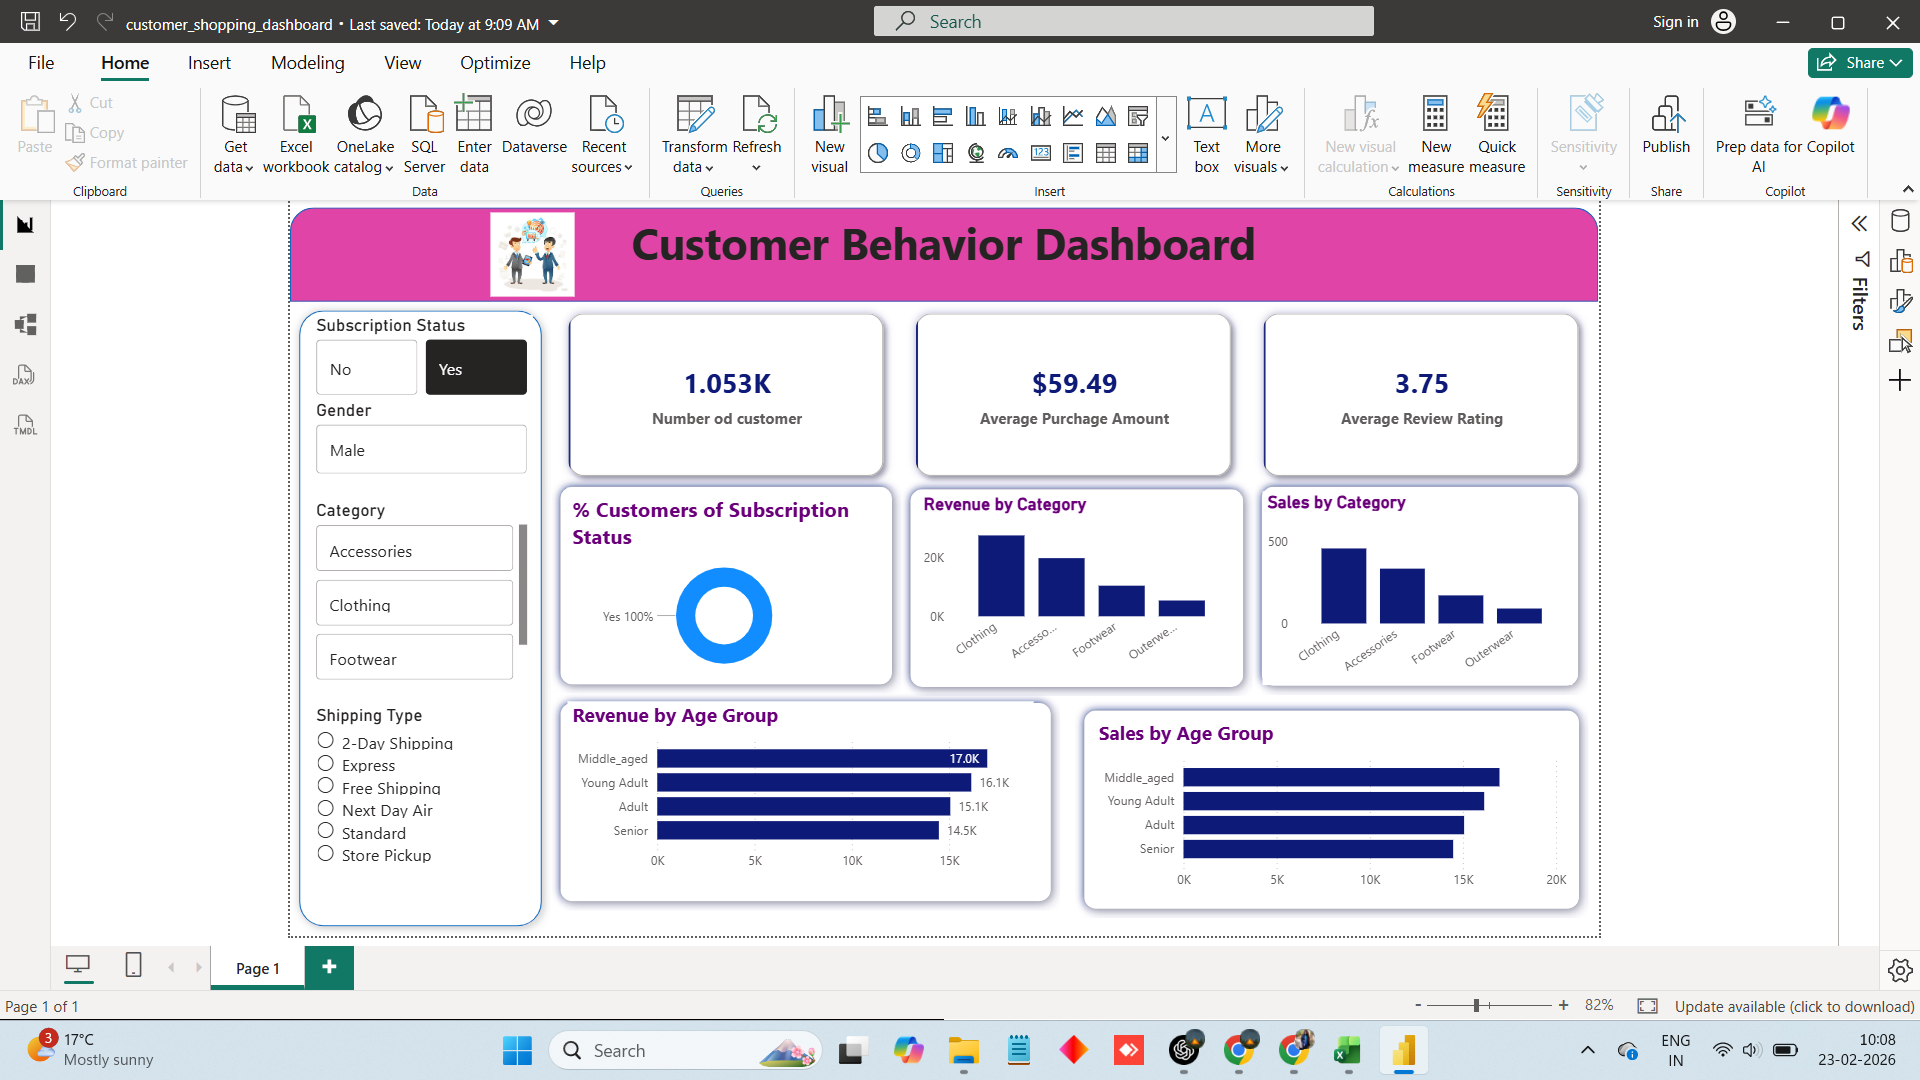

What the dashboard file says about the page in this screenshot:
{"tool":"powerbi","page":{"name":"Page 1","canvas":[1280,720],"ordinal":0},"visuals":[{"type":"cardVisual","fields":{"Data":["customer_shopping customer.Number od customer","customer_shopping customer.Average Purchage Amount","customer_shopping customer.Average Review Rating"]},"box":[255.6,94.2,1024.7,193.2],"z":0},{"type":"shape","box":[255.6,271.5,342.4,211.6],"z":1000},{"type":"shape","box":[0,7.2,1279.7,92.3],"z":2000},{"type":"textbox","box":[10.1,7.2,1259.5,69.3],"z":3000},{"type":"donutChart","title":"% Customers of Subscription Status","fields":{"Category":["customer_shopping customer.subscription_status"],"Y":["CountNonNull(customer_shopping customer.customer_id)"]},"box":[271.5,288.6,306.9,183.4],"z":4000},{"type":"shape","box":[598,273.9,343.6,211.6],"z":5000},{"type":"shape","box":[941.6,271.5,327.7,212.8],"z":6000},{"type":"clusteredColumnChart","title":"Revenue by Category","fields":{"Category":["customer_shopping customer.category"],"Y":["Sum(customer_shopping customer.purchase_amount)"]},"box":[615.1,287.4,310.6,176.1],"z":7000},{"type":"clusteredColumnChart","title":"Sales by Category","fields":{"Category":["customer_shopping customer.category"],"Y":["CountNonNull(customer_shopping customer.customer_id)"]},"box":[951.4,284.9,303.3,189.5],"z":8000},{"type":"shape","box":[0,99.6,255.4,620.4],"z":9000},{"type":"advancedSlicerVisual","fields":{"Values":["customer_shopping customer.subscription_status"]},"box":[20.2,112.5,216.4,83.7],"z":10000},{"type":"advancedSlicerVisual","fields":{"Values":["customer_shopping customer.gender"]},"box":[20.2,196.2,216.4,77.9],"z":11000},{"type":"advancedSlicerVisual","fields":{"Values":["customer_shopping customer.category"]},"box":[20.2,292.9,216.4,180.3],"z":12000},{"type":"shape","box":[255.4,483.3,497.8,212.1],"z":12500},{"type":"clusteredBarChart","title":"Revenue by Age Group","fields":{"Category":["customer_shopping customer.age_group"],"Y":["Sum(customer_shopping customer.purchase_amount)"]},"box":[271.2,490.5,455.9,174.6],"z":13000},{"type":"listSlicer","fields":{"Values":["customer_shopping customer.shipping_type"]},"box":[20.2,493.4,216.4,209.2],"z":14000},{"type":"shape","box":[767.5,490.5,502.1,212.1],"z":15001},{"type":"clusteredBarChart","title":"Sales by Age Group","fields":{"Category":["customer_shopping customer.age_group"],"Y":["Sum(customer_shopping customer.purchase_amount)"]},"box":[786.3,509.3,467.5,174.6],"z":15002},{"type":"image","box":[173.1,7.2,127,92.3],"z":15003}]}

Visuals, with their boxes on the page's 1280x720 design canvas (x1, y1, x2, y2). These are canvas units, not pixel positions in the 1920x1080 screenshot, which may show the page scaled, cropped or inside an application window:
cardVisual - customer_shopping customer.Number od customer x customer_shopping customer.Average Purchage Amount: l=256, t=94, r=1280, b=287
shape: l=256, t=272, r=598, b=483
shape: l=0, t=7, r=1280, b=100
textbox: l=10, t=7, r=1270, b=76
"% Customers of Subscription Status" donutChart: l=272, t=289, r=578, b=472
shape: l=598, t=274, r=942, b=486
shape: l=942, t=272, r=1269, b=484
"Revenue by Category" clusteredColumnChart: l=615, t=287, r=926, b=464
"Sales by Category" clusteredColumnChart: l=951, t=285, r=1255, b=474
shape: l=0, t=100, r=255, b=720
advancedSlicerVisual - customer_shopping customer.subscription_status: l=20, t=112, r=237, b=196
advancedSlicerVisual - customer_shopping customer.gender: l=20, t=196, r=237, b=274
advancedSlicerVisual - customer_shopping customer.category: l=20, t=293, r=237, b=473
shape: l=255, t=483, r=753, b=695
"Revenue by Age Group" clusteredBarChart: l=271, t=490, r=727, b=665
listSlicer - customer_shopping customer.shipping_type: l=20, t=493, r=237, b=703
shape: l=768, t=490, r=1270, b=703
"Sales by Age Group" clusteredBarChart: l=786, t=509, r=1254, b=684
image: l=173, t=7, r=300, b=100
